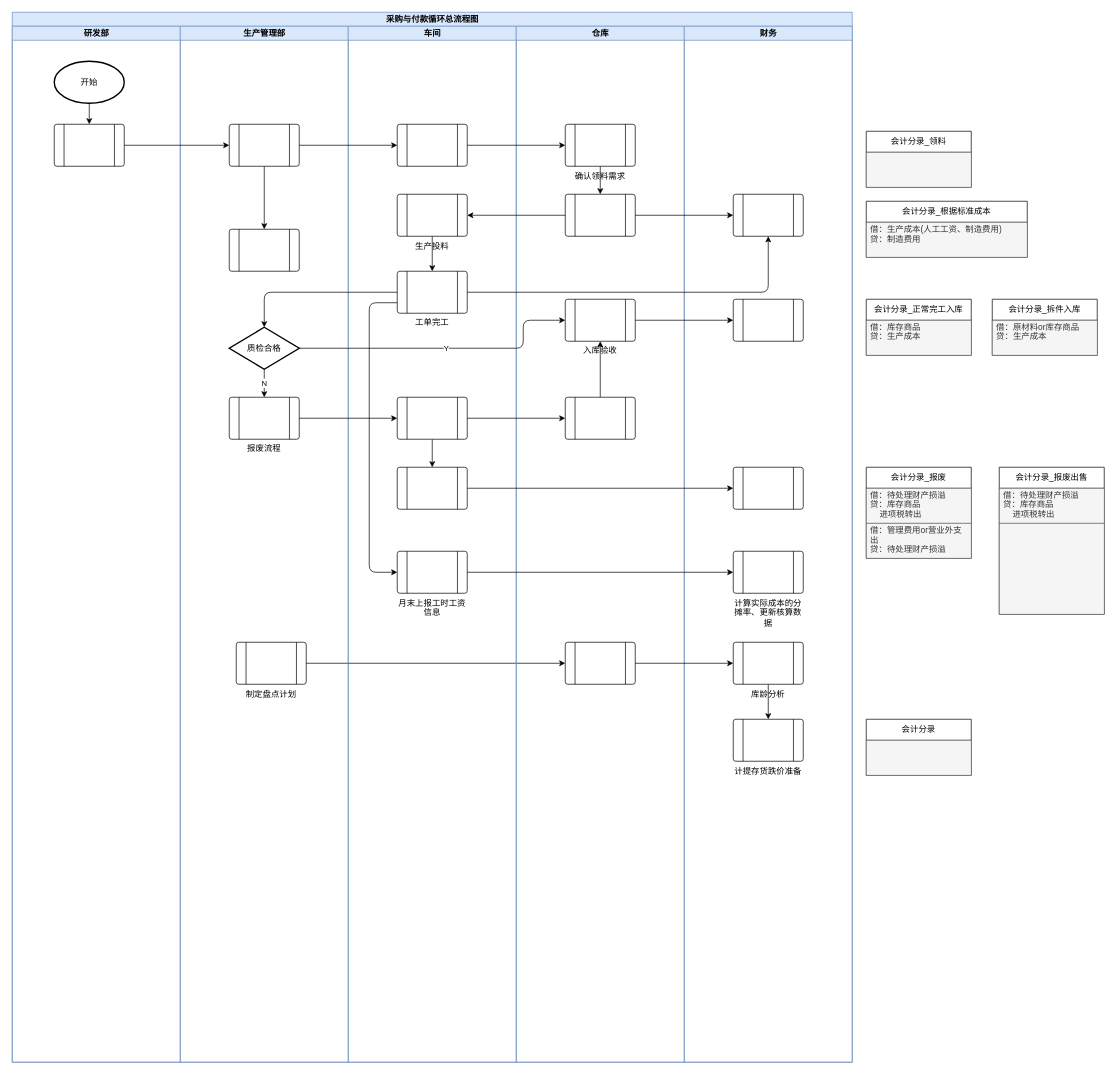
Image size: 1117x1075. Some labels were removed from this diagram. Each missing label, with the centre of its shape:
"产品拆件" belongs at (x=432, y=418).
"借：生产成本(直接材料) 贷：原材料" belongs at (x=918, y=169).
"借：资产减值损失 贷：存货跌价准备" belongs at (x=918, y=757).
"借：银行存款 贷：其他业务收入 销项税 借：其他业务成本 贷：待处理财产损溢" belongs at (x=1051, y=568).
"制定产品工艺路线" belongs at (x=89, y=145).
"制定生产计划（生产指令、生产排期）" belongs at (x=264, y=145).
"发料" belongs at (x=600, y=215).
"可用产品入库" belongs at (x=600, y=418).
"盘点" belongs at (x=600, y=663).
"确认存货" belongs at (x=768, y=320).
"确认成本费用" belongs at (x=768, y=215).
"确认报废部分" belongs at (x=432, y=488).
"确认损益" belongs at (x=768, y=488).
"维护物料信息" belongs at (x=264, y=250).
"领料" belongs at (x=432, y=145).
